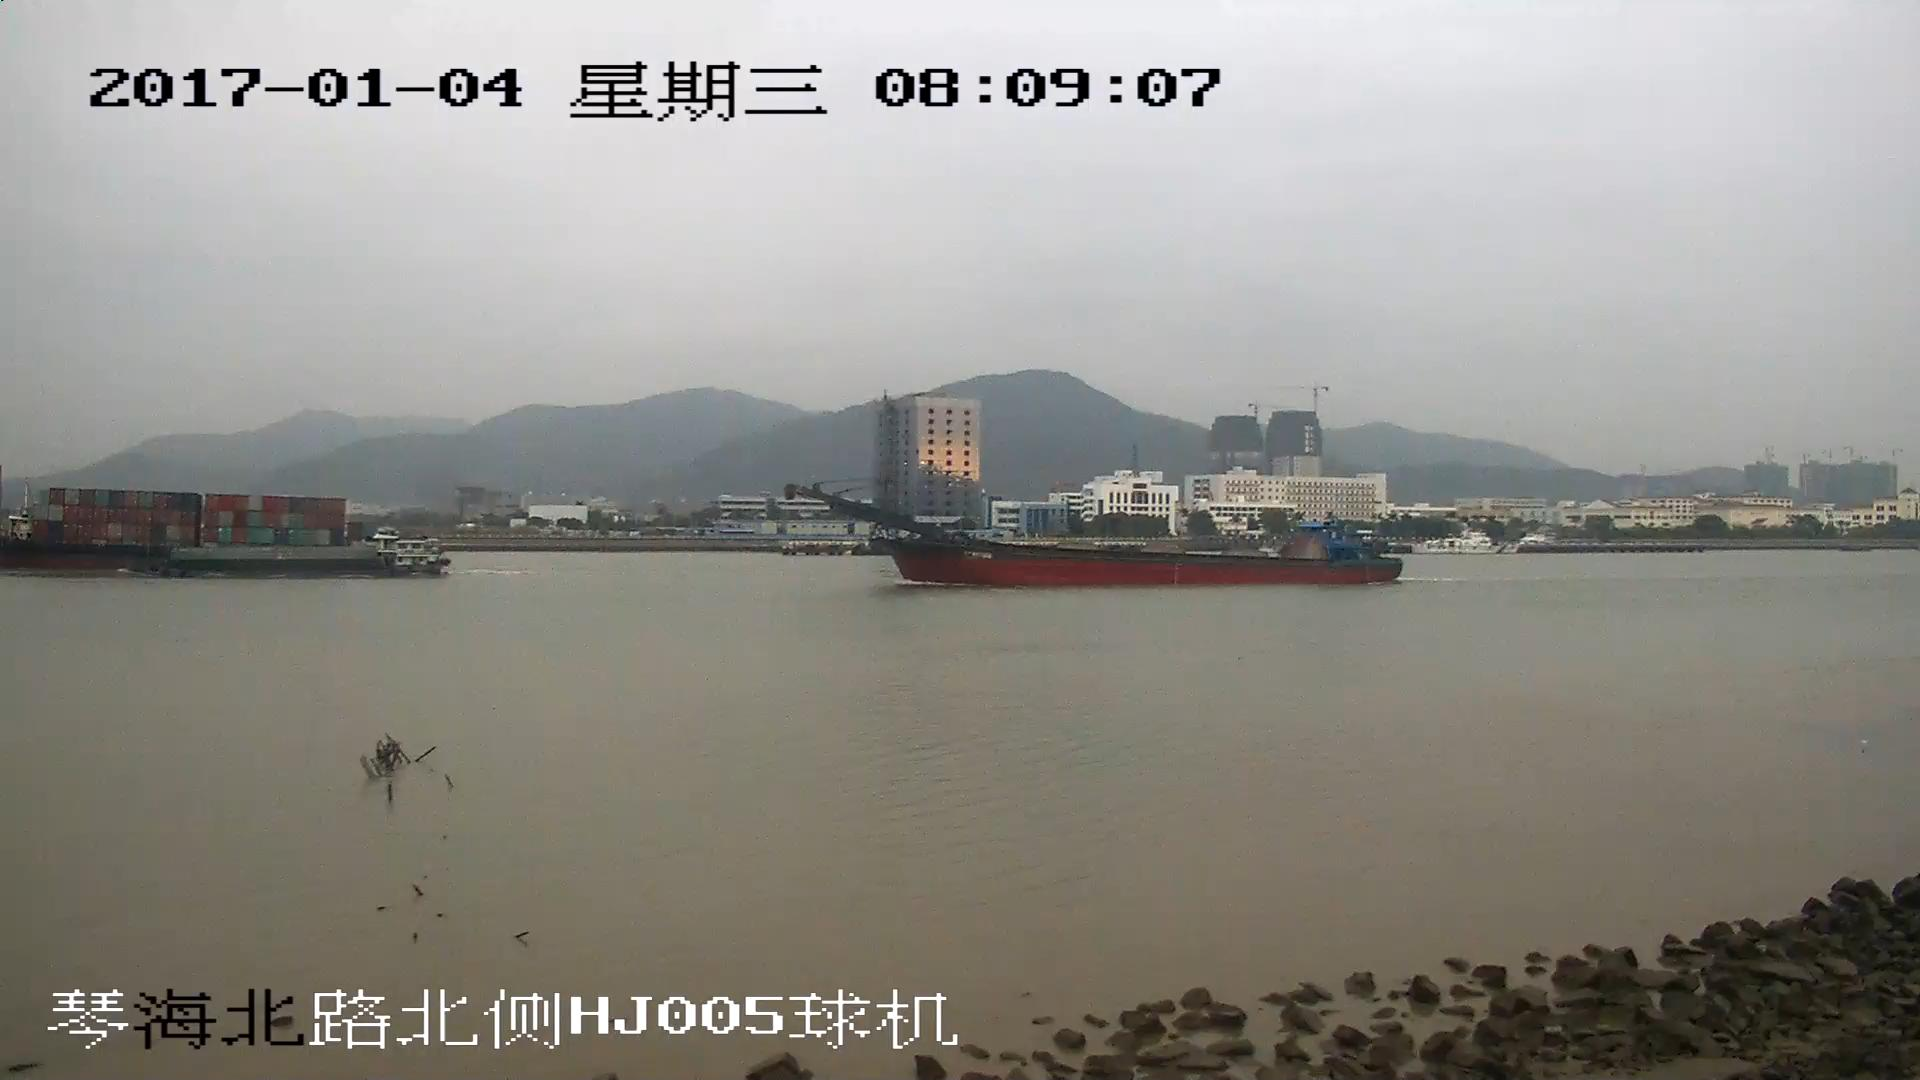bulk cargo carrier: (791, 487, 1400, 584)
container ship: (1, 491, 445, 577)
